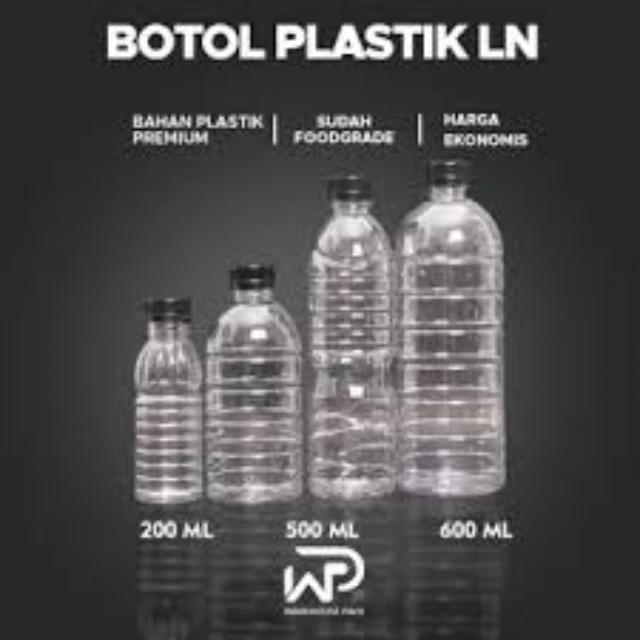trash: (395, 155, 509, 507), (303, 172, 401, 506), (200, 246, 308, 512), (130, 294, 204, 506)
